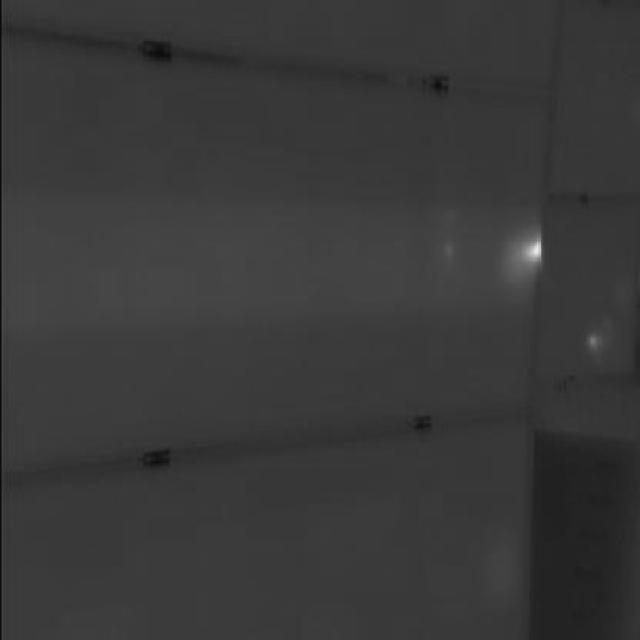hotspot: (516, 234, 546, 271)
